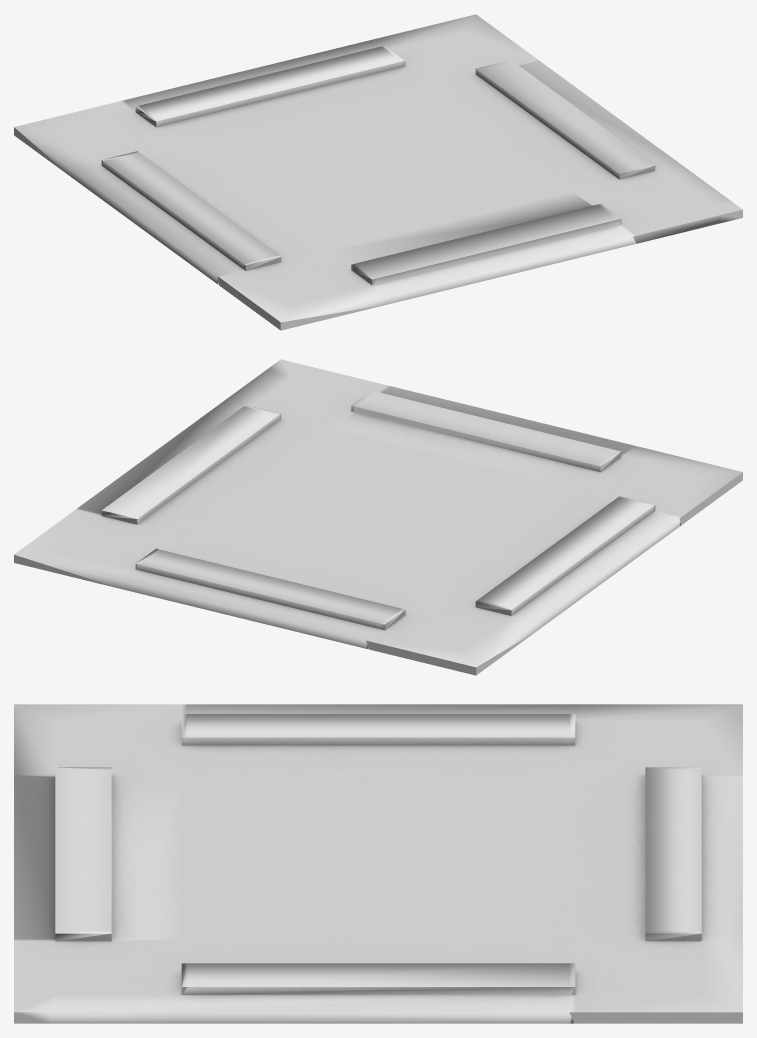
3 views of the same model, one above another, from view 1: azimuth 30°, elevation 25°; view 2: azimuth 150°, elevation 25°; view 3: azimuth 270°, elevation 25° (orthographic). The views are drawn at different scales.
Visible parts, largest first — view 1: Black; view 2: Black; view 3: Black.
Boxes of the visible parts, box(x1,y1,x2,y2) form: Black: box(14, 14, 742, 330); Black: box(14, 359, 742, 675); Black: box(14, 704, 742, 1023).
Bounding box in the file's own units: 0.95 × 0.0628 × 0.95.
Materials: 1 (1 with a texture image).
